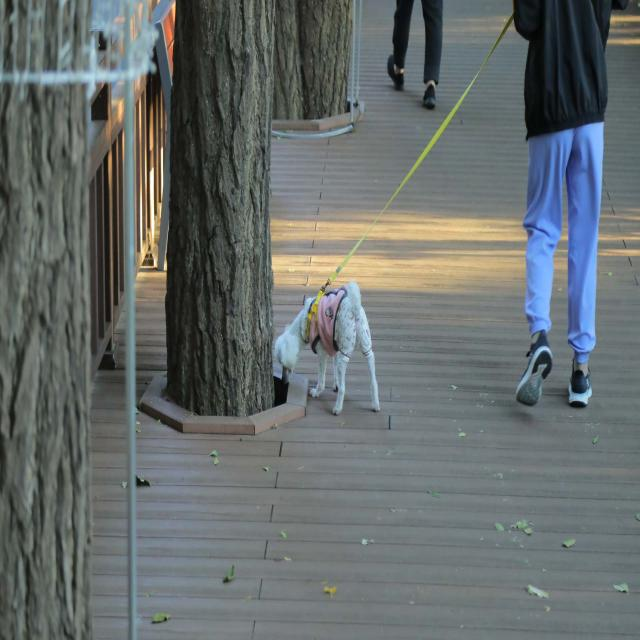Leashed_Dog: (276, 0, 574, 420)
